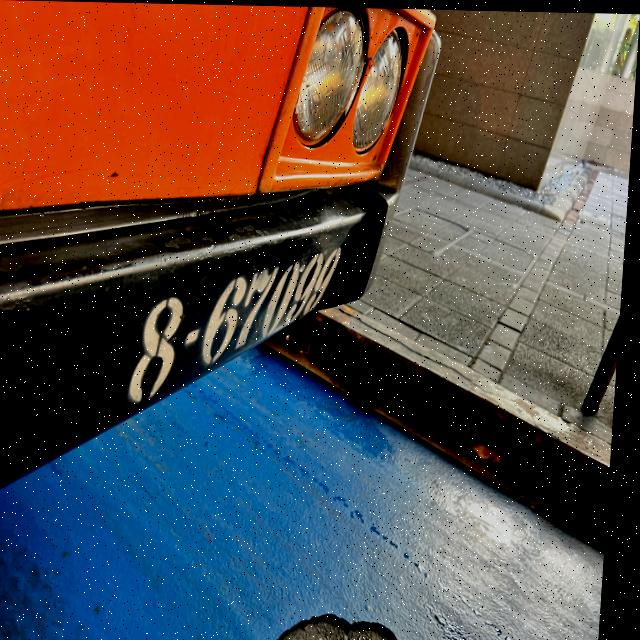BMTA-bus: (0, 1, 441, 498)
Bus Side Number: (120, 235, 352, 423)
